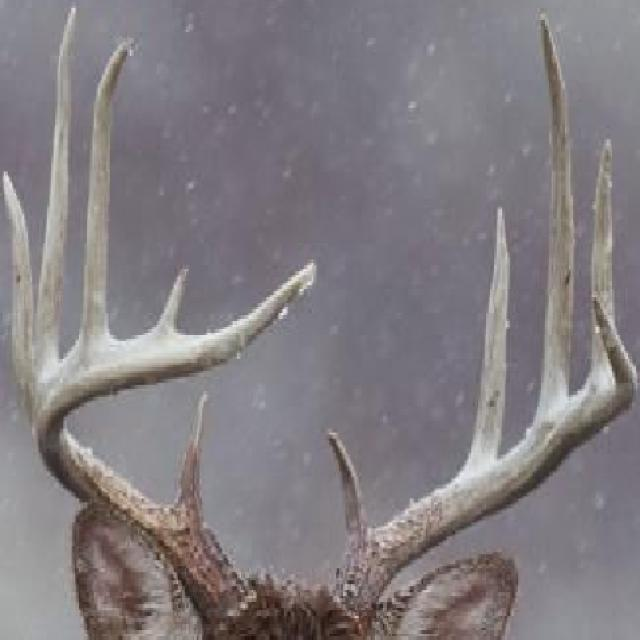L-F: (330, 289, 639, 639)
L-G1: (326, 428, 368, 553)
L-G2: (463, 201, 513, 466)
L-G3: (533, 9, 577, 423)
R-F: (32, 254, 318, 631)
R-G1: (167, 386, 211, 529)
R-G2: (1, 169, 35, 424)
R-G3: (33, 2, 80, 381)
R-G4: (74, 39, 131, 348)
R-G5: (151, 262, 190, 333)
